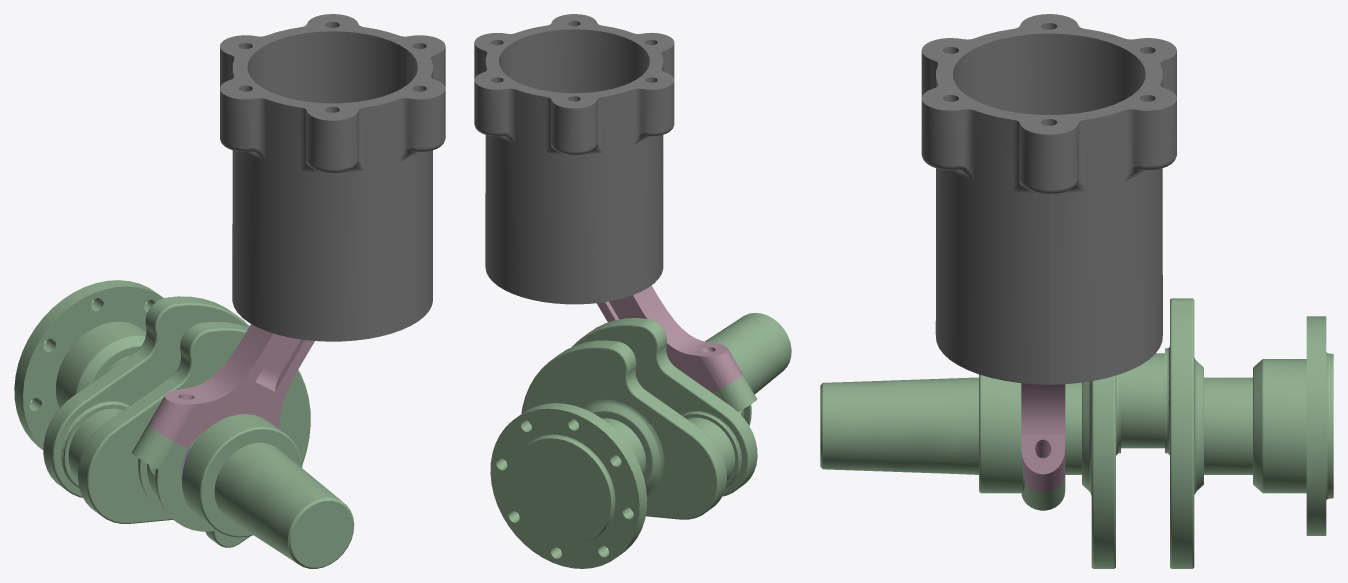
The model's file is IC Engine.glb.
3 views of the same model, side by side, from view 1: azimuth 30°, elevation 25°; view 2: azimuth 150°, elevation 25°; view 3: azimuth 270°, elevation 25° (orthographic). The views are drawn at different scales.
Visible parts, largest first — view 1: empty_3, empty_2, empty_9, empty_7; view 2: empty_3, empty_2, empty_9, empty_7; view 3: empty_3, empty_2, empty_9, empty_7.
Part boxes in pixels (left/top/right/bottom): empty_3: left=220, top=14, right=445, bottom=341; empty_2: left=14, top=280, right=354, bottom=568; empty_9: left=148, top=324, right=314, bottom=448; empty_7: left=131, top=425, right=216, bottom=531; empty_3: left=474, top=14, right=674, bottom=304; empty_2: left=490, top=313, right=791, bottom=568; empty_9: left=596, top=285, right=742, bottom=392; empty_7: left=712, top=375, right=757, bottom=425; empty_3: left=921, top=14, right=1176, bottom=384; empty_2: left=820, top=298, right=1333, bottom=568; empty_9: left=1021, top=383, right=1065, bottom=492; empty_7: left=1021, top=474, right=1065, bottom=510.
Bounding box in the file's own units: 179 × 242 × 210.
